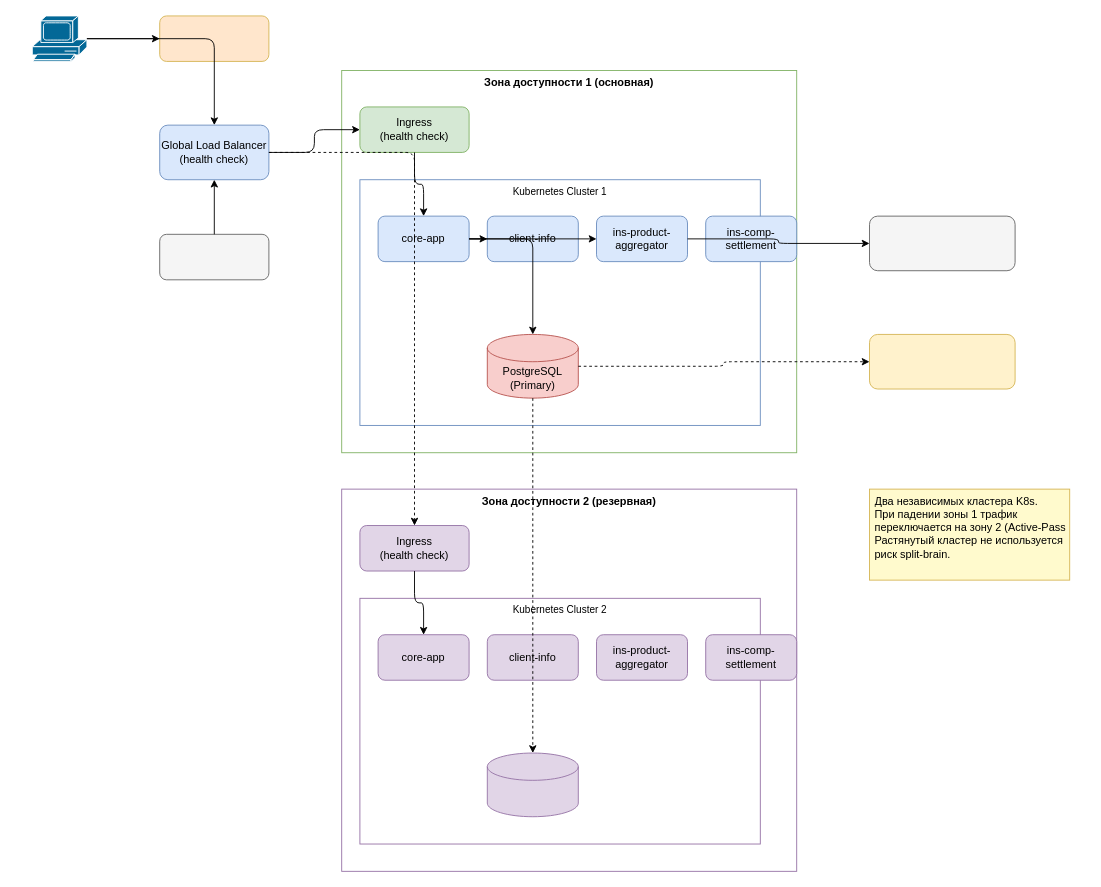
This 1101x887 diagram has some shape labels left out. The centre of each missing label's shape, as x and y in pixels:
"Backup Storage (каждые 15 мин, RPO)" belongs at point 942,361.
"CDN (статика)" belongs at point 214,38.
"PostgreSQL (Replica)" belongs at point 532,784.
"Веб-приложение (клиенты)" belongs at point 214,256.
"Страховые компании (5 партнёров)" belongs at point 942,243.
